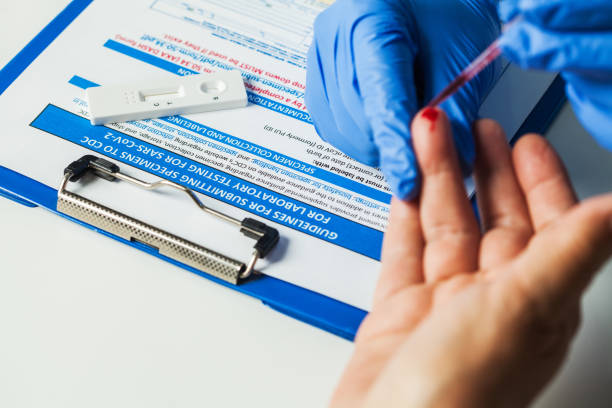blood: (424, 41, 501, 109), (419, 106, 445, 134)
